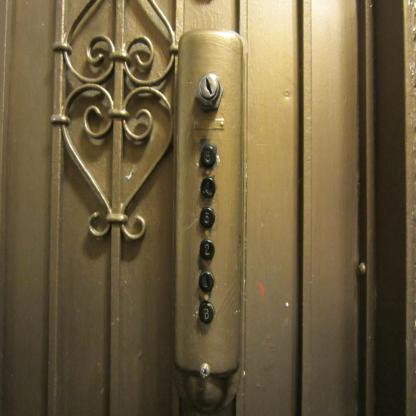1: (196, 269, 216, 293)
2: (197, 237, 217, 261)
3: (197, 205, 216, 229)
4: (198, 175, 217, 200)
5: (198, 144, 218, 169)
B: (197, 300, 216, 324)
keyhole: (194, 69, 224, 111)
